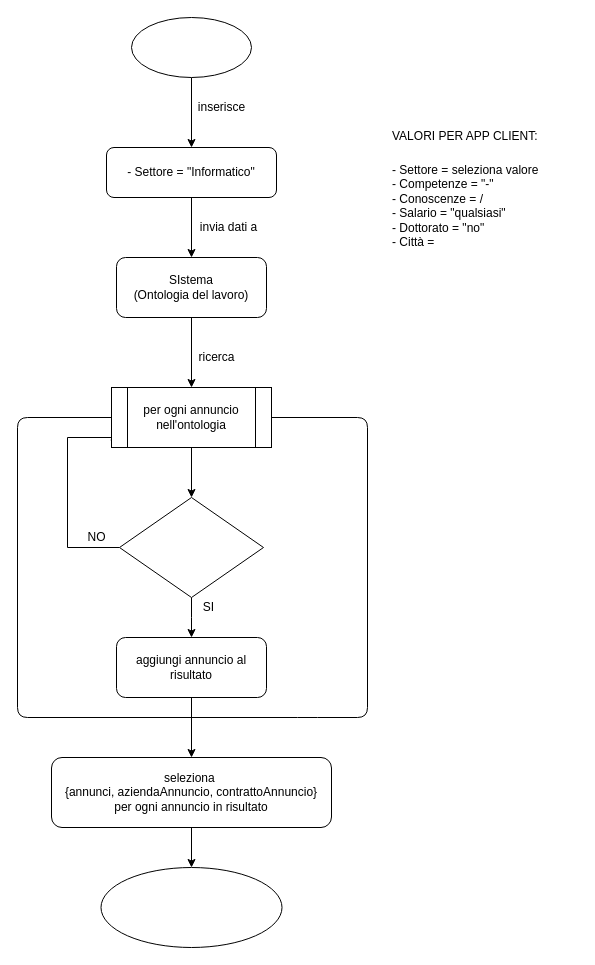
This 595x965 diagram has some shape labels left out. Each missing label, with the centre of its shape:
annuncio ha settore "Informatico"?: [191,547]
mostra risultato all'utente: [191,907]
Utente (Candidato): [191,47]
